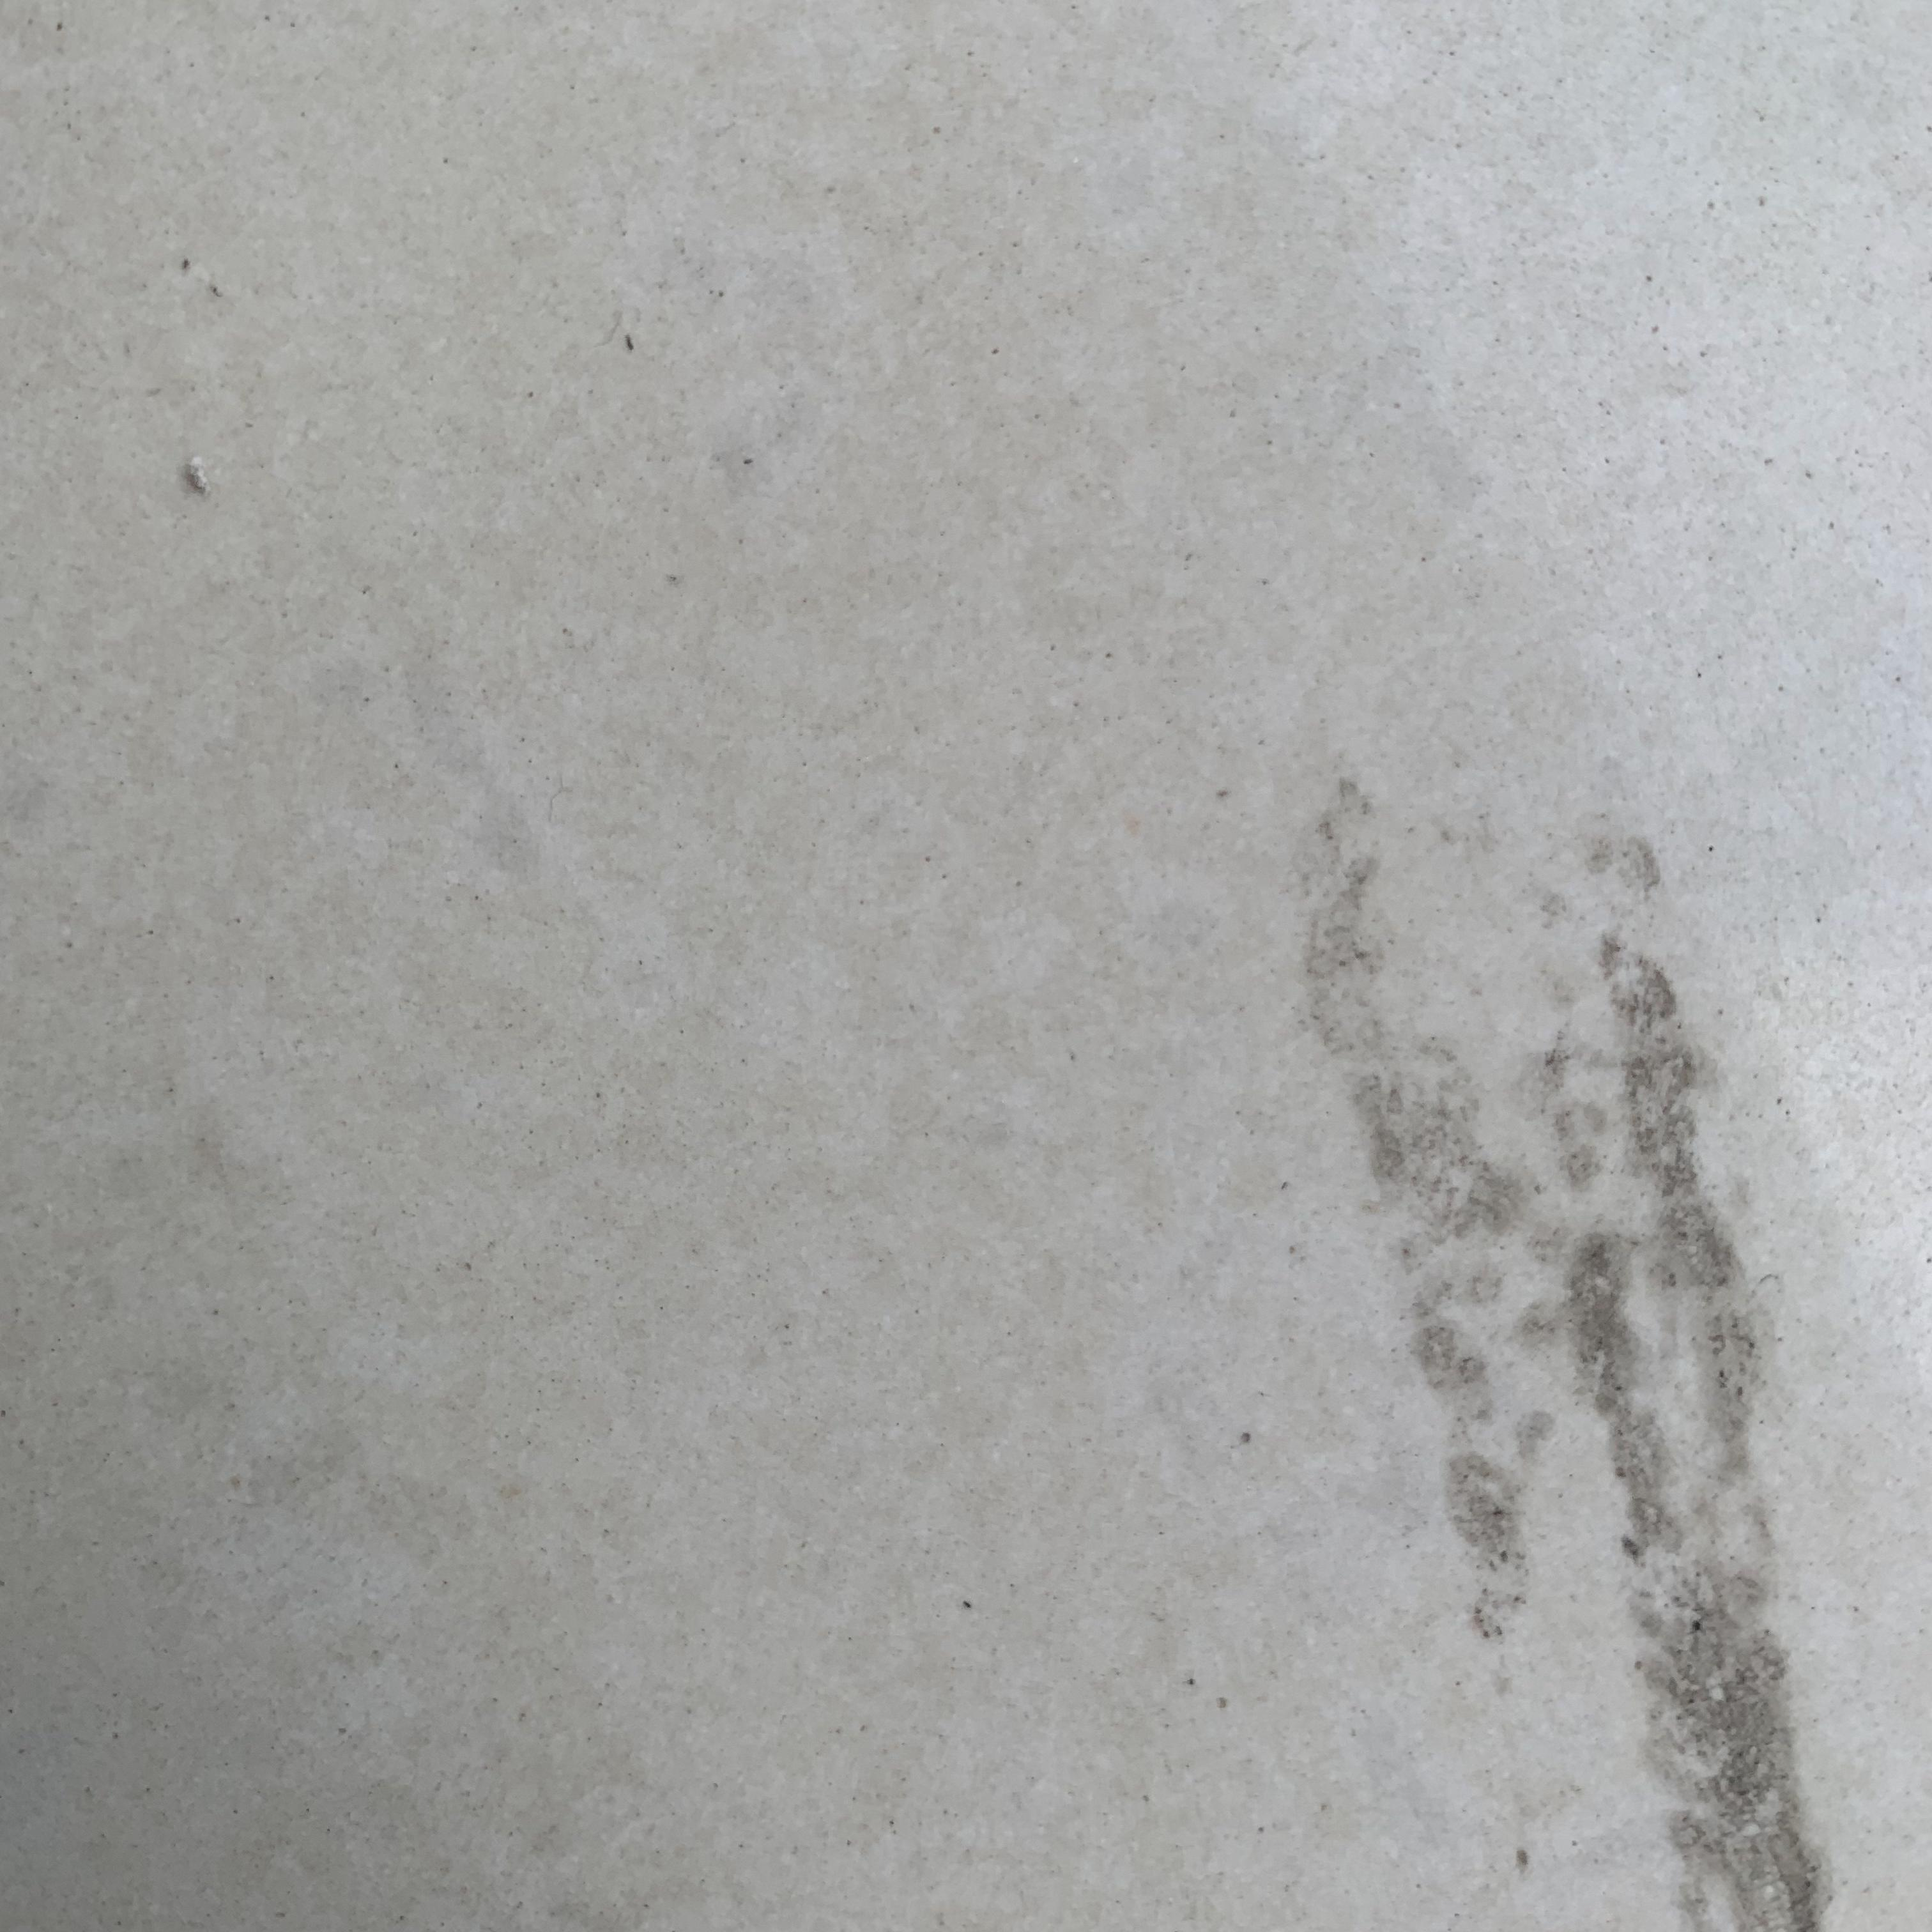grey spot: (1297, 775, 1831, 1932)
